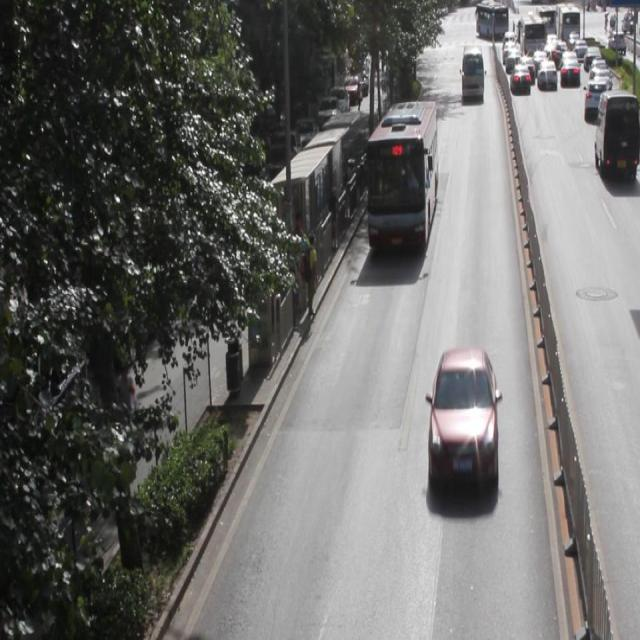car: (429, 348, 497, 492)
truck: (594, 91, 640, 178)
van: (368, 101, 436, 250)
